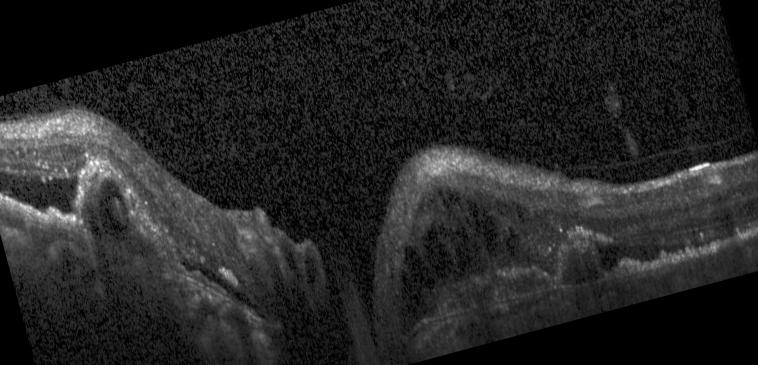intraretinal_cyst: (397, 269, 432, 331), (422, 225, 455, 276), (403, 246, 436, 289), (484, 216, 500, 255), (506, 225, 520, 256), (467, 200, 482, 225), (306, 256, 318, 283), (455, 246, 468, 270), (283, 245, 296, 269), (455, 223, 469, 241), (516, 204, 524, 222), (439, 191, 448, 207)
neuroepithelium_detachment: (183, 263, 266, 317), (0, 170, 77, 213), (596, 240, 686, 269)
subretinal_fluid: (98, 176, 130, 232), (560, 247, 599, 284)
subretinal_hyperreflective_material: (438, 265, 551, 314)
vitreomacular_traction: (563, 126, 756, 172)
